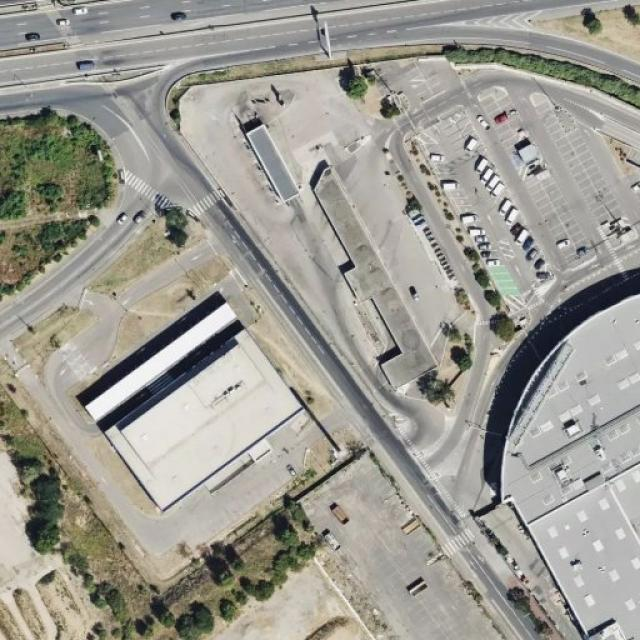usine: (51, 240, 334, 530)
